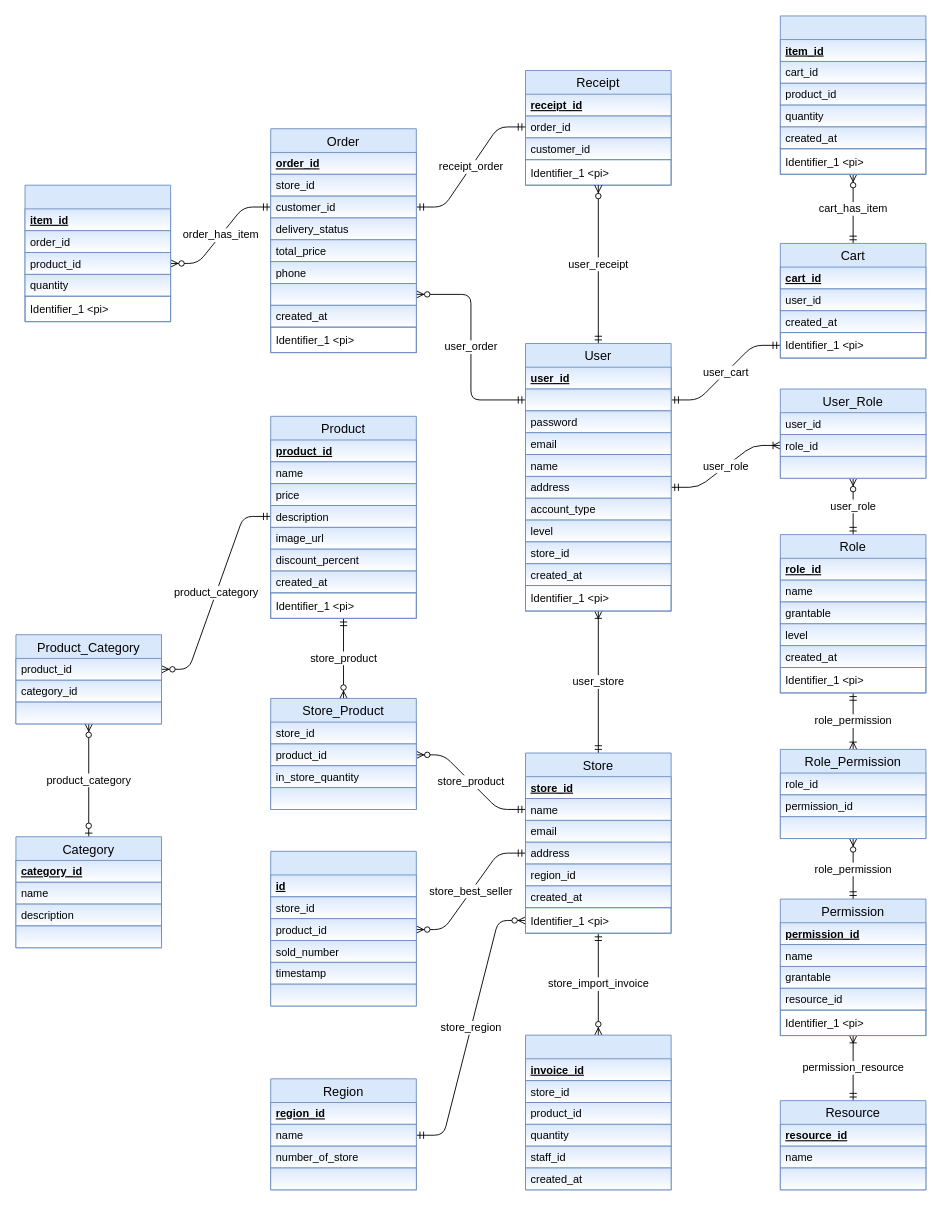
Some shapes in this 942 by 1206 pixel diagram are drawn without their labels. The shapes that lost their labels are listed below. From the top down, each one's box as (x1, y1, x2, y2) in pixels, then its label:
(779, 15, 926, 174): Cart Item
(24, 184, 171, 322): Order Item
(270, 283, 416, 305): ship_address
(525, 388, 671, 411): username
(270, 850, 416, 1006): Best Seller
(525, 1034, 671, 1190): Import Invoice
